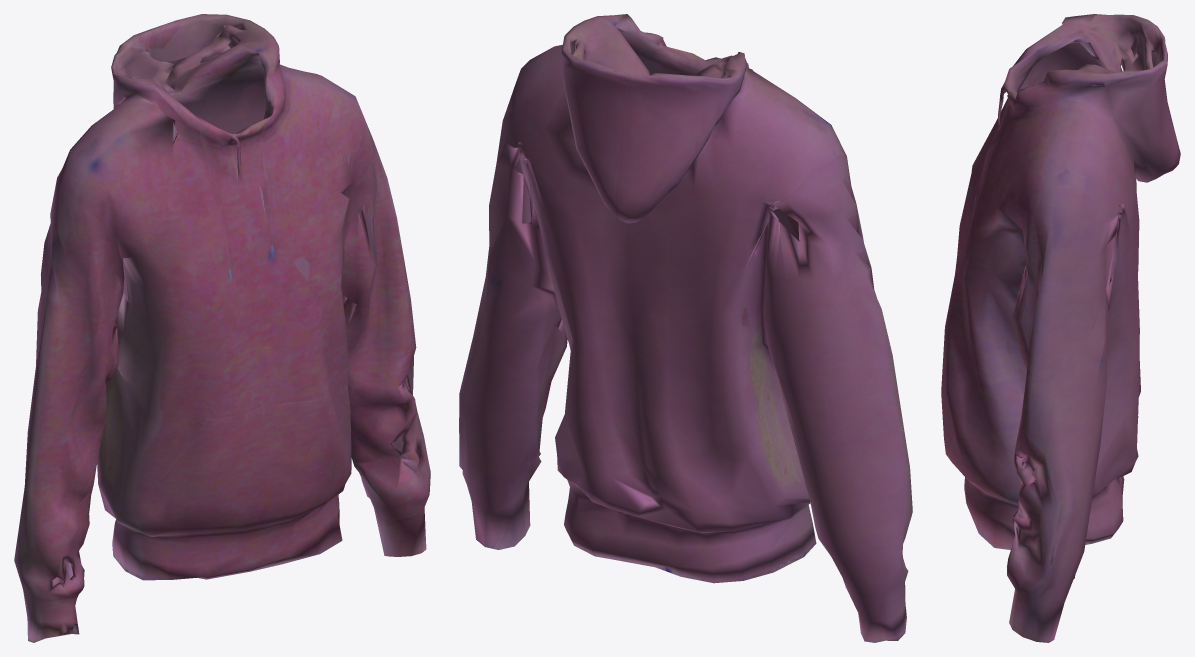
3 renders of one model, left to right at view 1: azimuth 30°, elevation 25°; view 2: azimuth 150°, elevation 25°; view 3: azimuth 270°, elevation 25°, orthographic. The views are drawn at different scales.
Visible parts, largest first — view 1: file1; view 2: file1; view 3: file1.
Part boxes in pixels (x1,y1,x2,y2): file1: [14, 14, 430, 642]; file1: [459, 14, 912, 642]; file1: [941, 14, 1180, 642].
Size of the model in its own units: 1.62 by 2 by 0.8431.
Materials: 1 (1 with a texture image).
